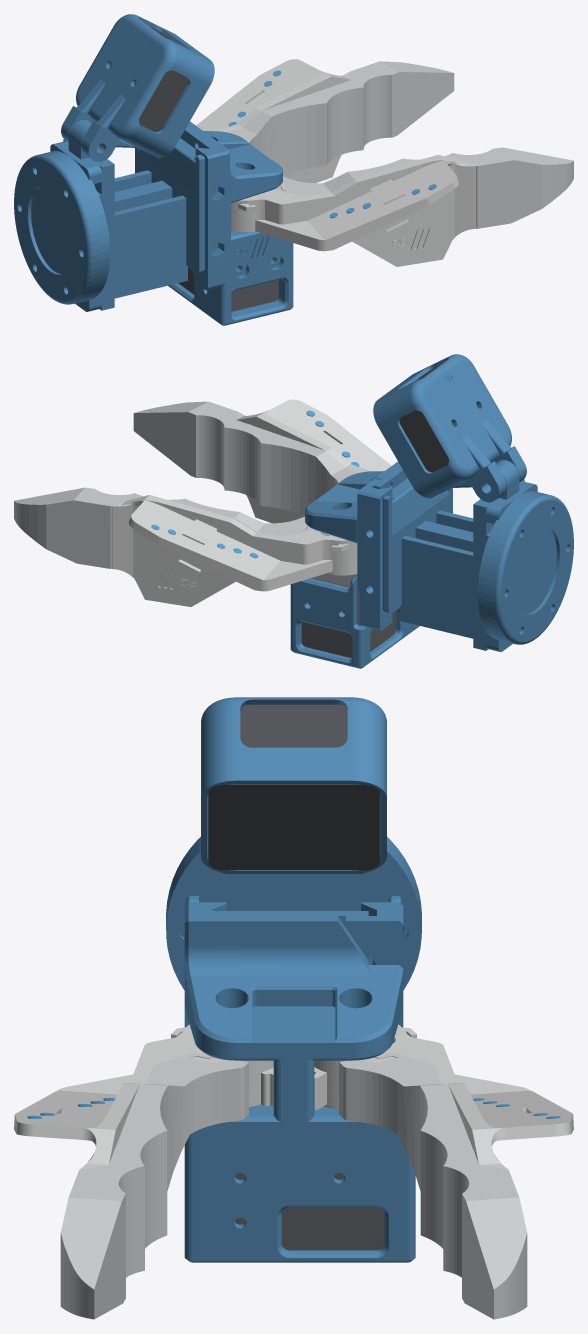
Rendered from chop-umi_openarm.glb.
3 renders of one model, top to bottom at view 1: azimuth 30°, elevation 25°; view 2: azimuth 150°, elevation 25°; view 3: azimuth 270°, elevation 25°, orthographic. The views are drawn at different scales.
Visible parts, largest first — view 1: jaw_right, d405_frame, tip_tpu_left, d405_cup, chopstick_base_sa, openarm_adapter, tip_tpu_right, jaw_left_sa, d405_envelope, servo_envelope; view 2: jaw_left_sa, d405_frame, tip_tpu_right, d405_cup, openarm_adapter, chopstick_base_sa, tip_tpu_left, jaw_right, chopstick_clip_sa, servo_envelope, d405_envelope; view 3: chopstick_base_sa, tip_tpu_right, tip_tpu_left, d405_envelope, d405_cup, jaw_left_sa, jaw_right, openarm_adapter, d405_frame, servo_envelope, chopstick_clip_sa.
Part boxes in pixels (left/top/right/bottom): jaw_right: left=231, top=154, right=476, bottom=266; d405_frame: left=63, top=120, right=204, bottom=310; tip_tpu_left: left=228, top=61, right=454, bottom=174; d405_cup: left=61, top=14, right=214, bottom=161; chopstick_base_sa: left=168, top=121, right=293, bottom=325; openarm_adapter: left=14, top=141, right=110, bottom=311; tip_tpu_right: left=277, top=147, right=573, bottom=228; jaw_left_sa: left=196, top=59, right=351, bottom=183; d405_envelope: left=109, top=25, right=188, bottom=132; servo_envelope: left=178, top=268, right=278, bottom=311; jaw_left_sa: left=111, top=495, right=357, bottom=606; d405_frame: left=383, top=460, right=524, bottom=650; tip_tpu_right: left=133, top=401, right=359, bottom=514; d405_cup: left=373, top=354, right=526, bottom=502; openarm_adapter: left=477, top=481, right=573, bottom=651; chopstick_base_sa: left=290, top=461, right=419, bottom=668; tip_tpu_left: left=14, top=487, right=310, bottom=568; jaw_right: left=236, top=399, right=391, bottom=523; chopstick_clip_sa: left=357, top=479, right=392, bottom=630; servo_envelope: left=301, top=573, right=395, bottom=658; d405_envelope: left=399, top=366, right=478, bottom=472; chopstick_base_sa: left=184, top=902, right=415, bottom=1262; tip_tpu_right: left=60, top=1052, right=248, bottom=1319; tip_tpu_left: left=339, top=1052, right=527, bottom=1319; d405_envelope: left=208, top=704, right=379, bottom=870; d405_cup: left=201, top=697, right=386, bottom=873; jaw_left_sa: left=314, top=1024, right=573, bottom=1169; jaw_right: left=14, top=1024, right=273, bottom=1169; openarm_adapter: left=166, top=837, right=421, bottom=990; d405_frame: left=186, top=874, right=401, bottom=964; servo_envelope: left=234, top=1173, right=384, bottom=1250; chopstick_clip_sa: left=346, top=902, right=403, bottom=1027.
Bounding box in the file's own units: 0.2165 × 0.1269 × 0.1357.
